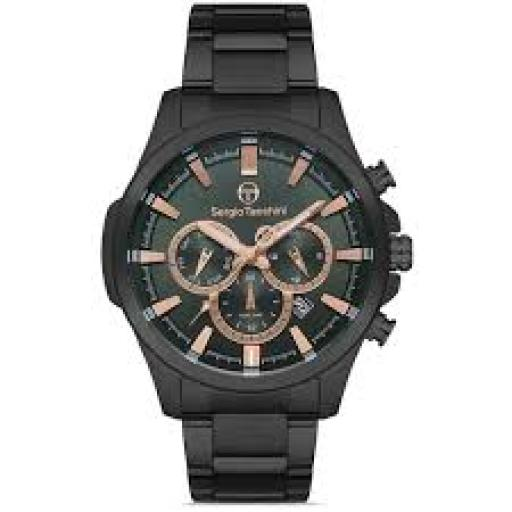KolSaati: (84, 0, 418, 507)
